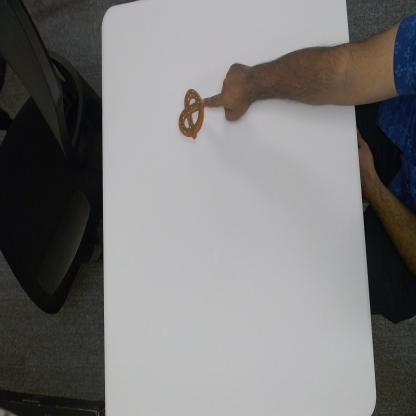Arm: (255, 7, 416, 111)
Hand: (201, 59, 255, 123)
Pretzel: (177, 86, 206, 140)
